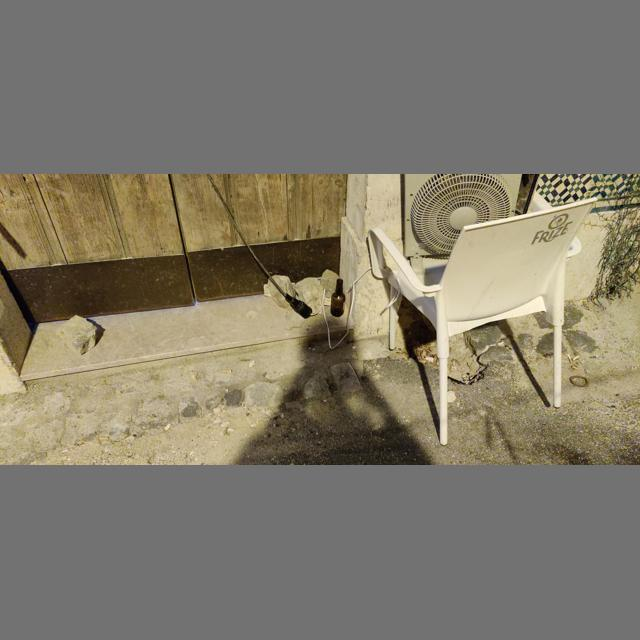litter: (330, 278, 345, 317), (571, 366, 580, 371), (568, 357, 574, 364), (469, 375, 475, 381), (99, 437, 108, 441), (209, 441, 219, 444), (222, 370, 232, 373)
